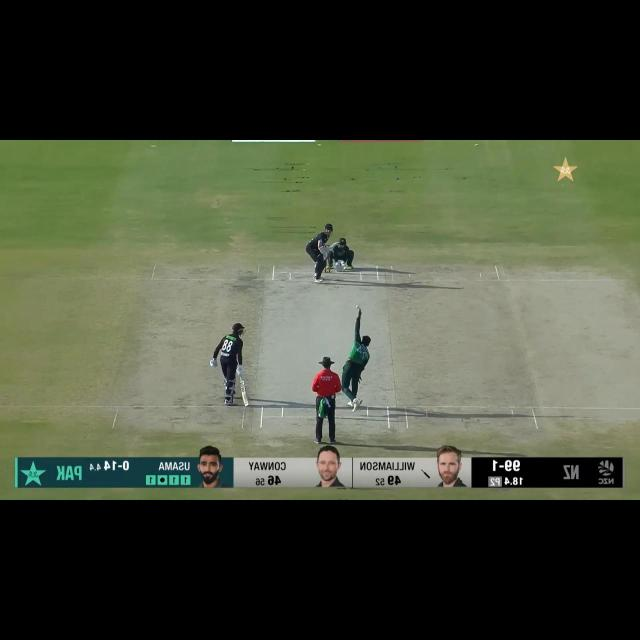bat: (237, 381, 251, 406), (327, 241, 340, 252)
toe: (243, 401, 249, 406), (334, 242, 339, 246)
